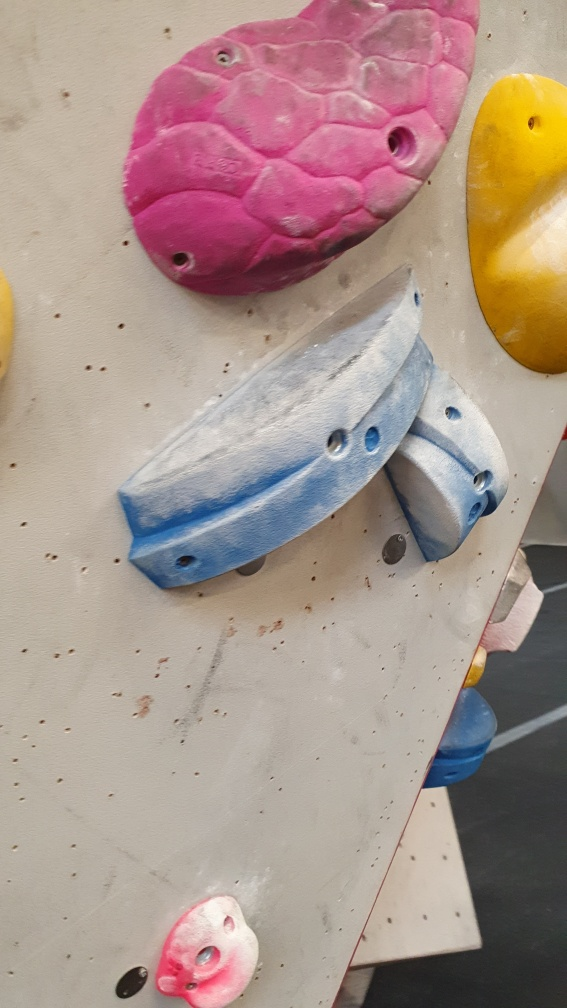Hand Start: (118, 962, 151, 999), (381, 531, 408, 567)
Pinch: (118, 265, 432, 591), (376, 361, 511, 561), (420, 681, 505, 789)
